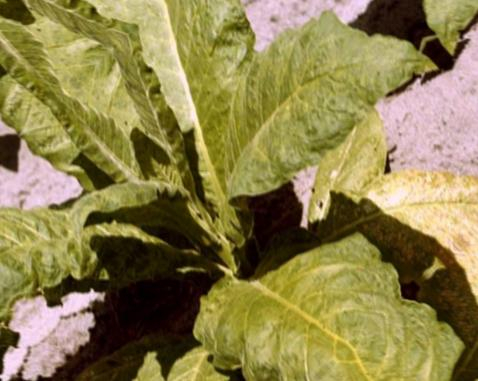Tomato leaf mosaic virus: (189, 0, 446, 227), (0, 102, 202, 370), (174, 185, 417, 381), (89, 309, 270, 381)
